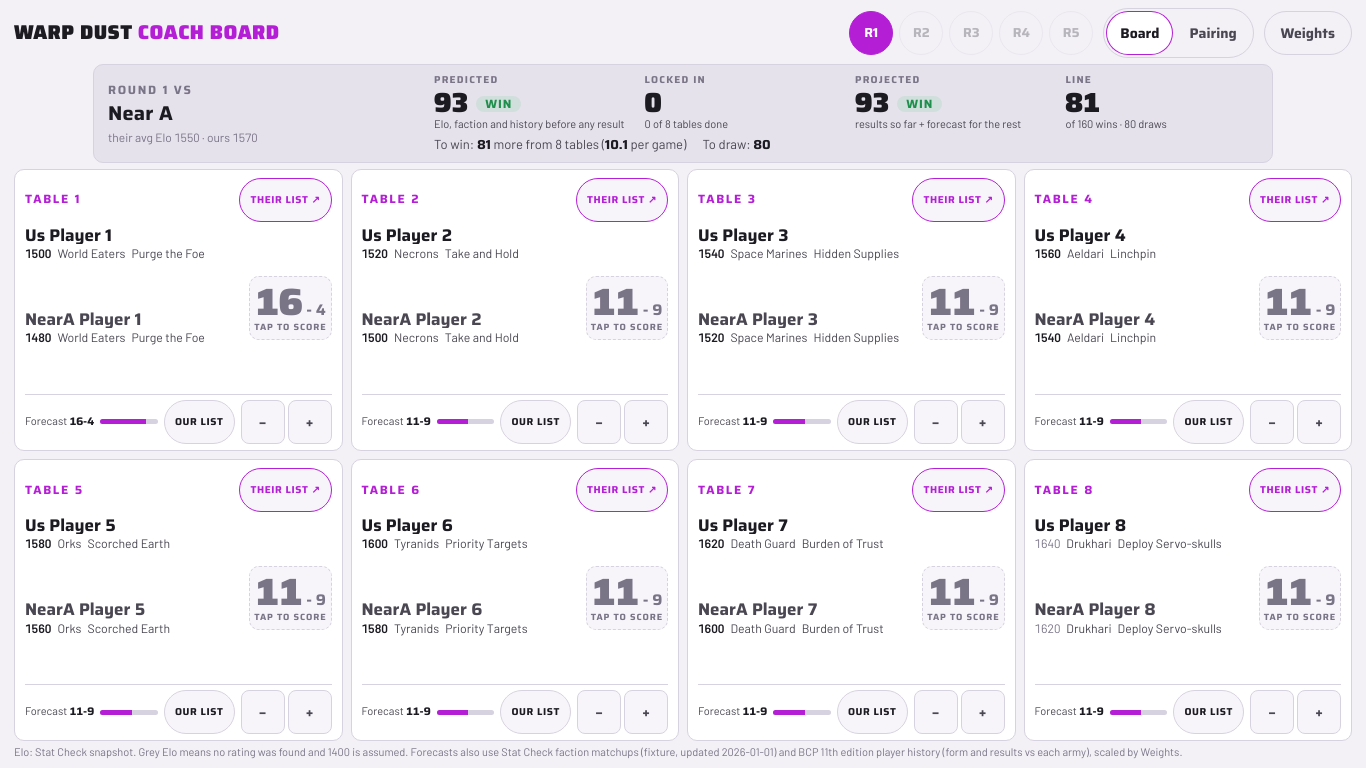
it: board forecast weights › puts the history numbers in the pairing cell label and marks a 2+ shift with H
This screenshot has width=1366, height=768.
Click the tab "Pairing" at (1213, 33), box [1176,11,1251,55]
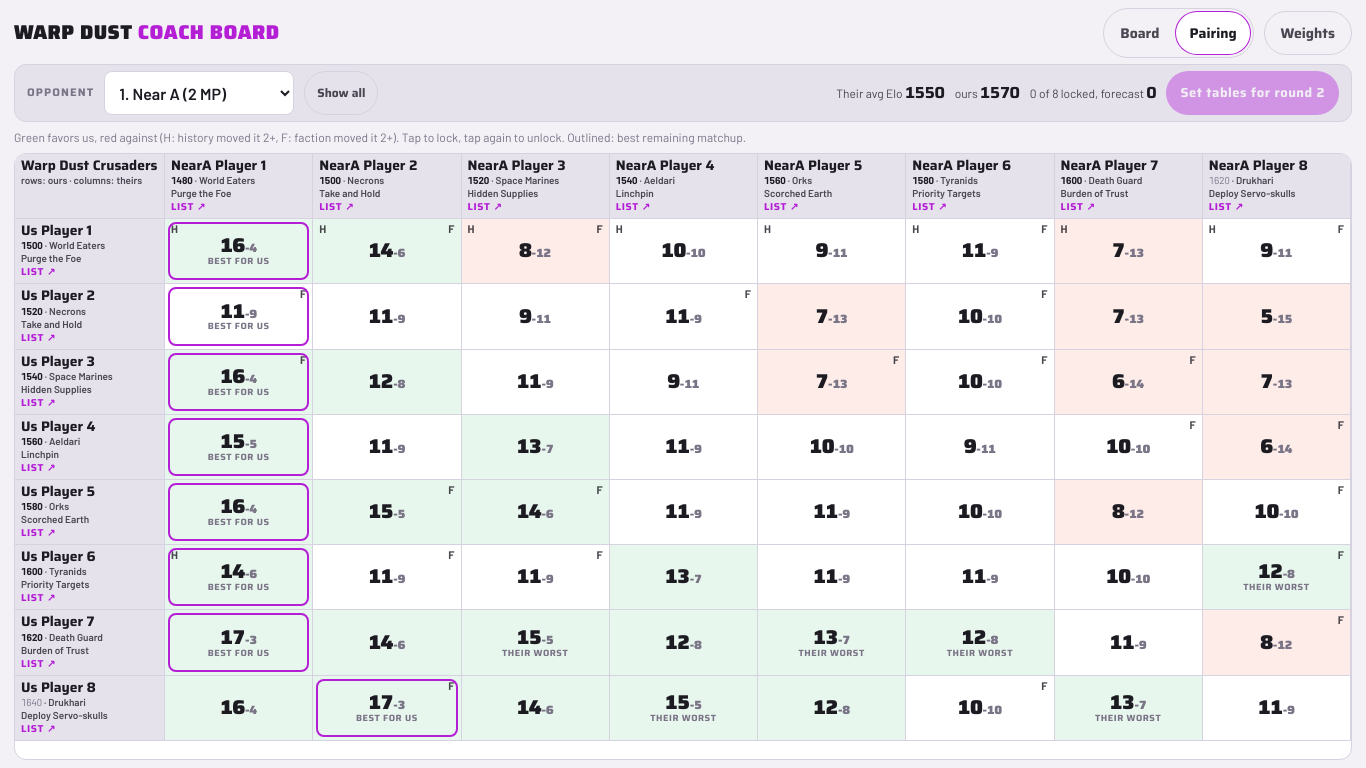
Result: the 1st text "H" is shown at [171,223,178,234]
Result: the text "H: history moved it 2+, F: faction moved it 2+)" is shown at [14,130,746,144]
